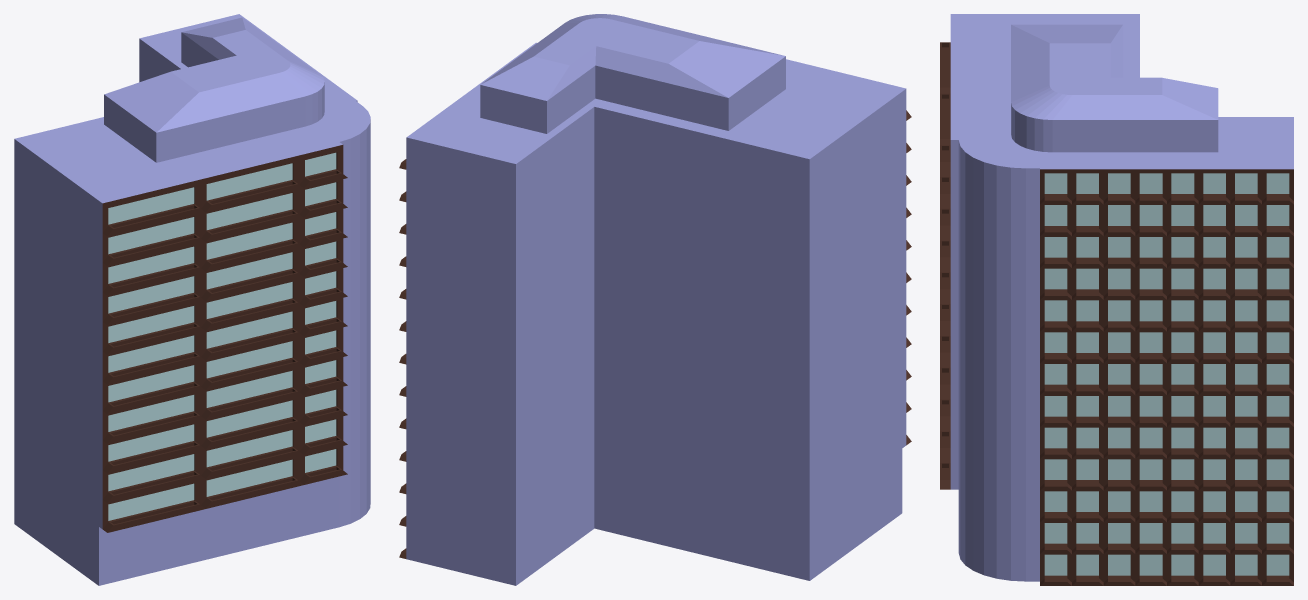
File: Big Boi Blue.fbx
The picture shows the model from 3 angles, left to right: view 1: azimuth 30°, elevation 25°; view 2: azimuth 150°, elevation 25°; view 3: azimuth 270°, elevation 25°; orthographic projection. The views are drawn at different scales.
Visible parts, largest first — view 1: Cube.001; view 2: Cube.001; view 3: Cube.001.
Boxes of the visible parts, x1,y1,x2,y2 form: Cube.001: (14, 14, 370, 585); Cube.001: (399, 14, 911, 585); Cube.001: (940, 14, 1293, 585).
Bounding box in the file's own units: 6221 × 8379 × 5856.
